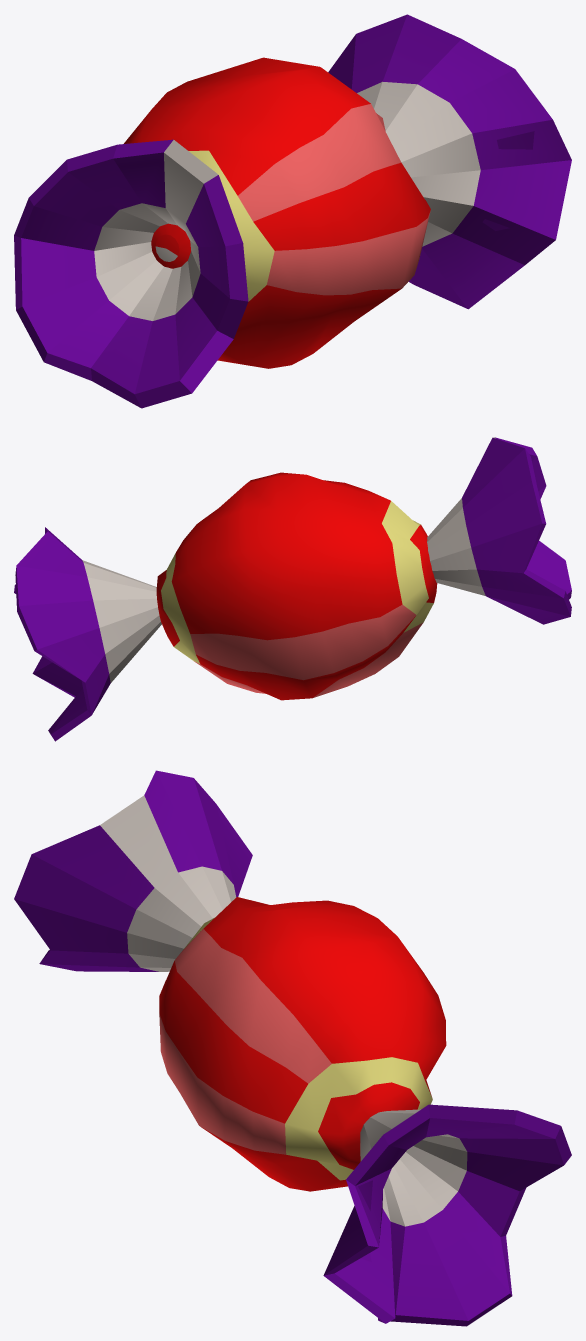
File: bonbon.fbx
3 views of the same model, one above another, from view 1: azimuth 30°, elevation 25°; view 2: azimuth 150°, elevation 25°; view 3: azimuth 270°, elevation 25° (orthographic). The views are drawn at different scales.
Parts seen in each view (by area): view 1: pSphere19; view 2: pSphere19; view 3: pSphere19.
Boxes of the visible parts, x1=… form: pSphere19: x1=14, y1=14, x2=571, y2=408; pSphere19: x1=14, y1=437, x2=571, y2=741; pSphere19: x1=14, y1=770, x2=571, y2=1326.
Bounding box in the file's own units: 13.38 × 7.47 × 10.88.
